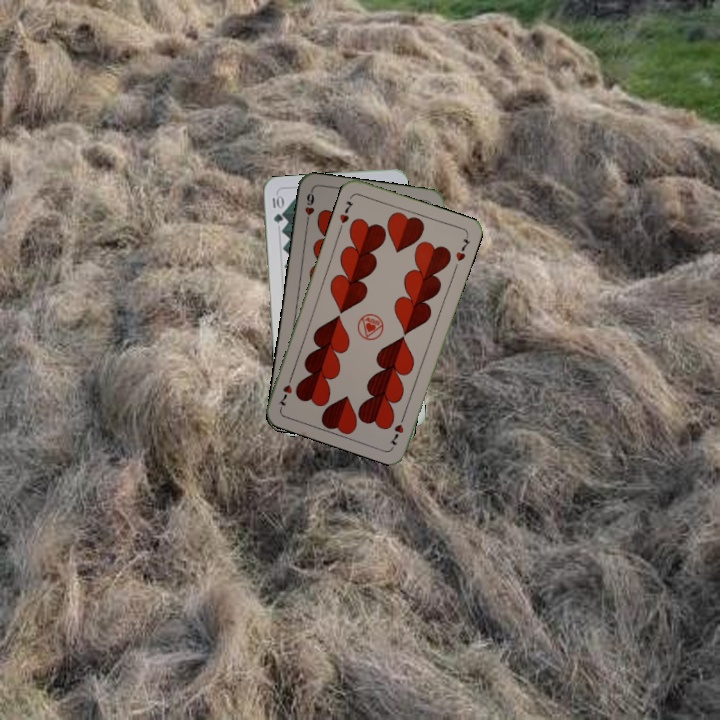G10: (268, 191, 285, 225)
H7: (386, 410, 408, 448), (335, 197, 356, 226)
H9: (301, 187, 317, 228)
